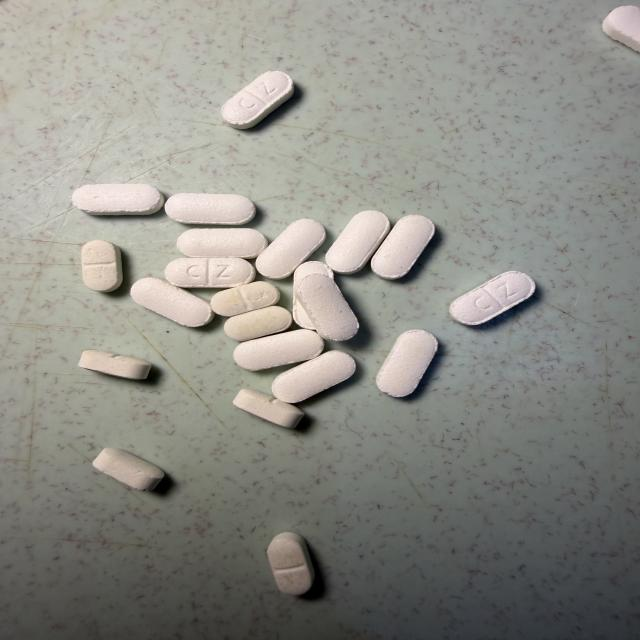pill: (450, 271, 535, 325), (272, 351, 355, 403), (295, 274, 359, 341), (256, 219, 325, 279), (222, 71, 293, 129), (376, 330, 437, 397), (131, 278, 214, 327), (371, 215, 434, 279), (326, 211, 390, 273), (234, 330, 324, 370), (93, 448, 164, 490), (267, 533, 314, 595), (72, 184, 164, 215), (165, 194, 255, 225), (234, 389, 304, 428), (293, 261, 333, 329), (165, 258, 255, 287), (177, 229, 267, 258), (211, 281, 280, 316), (224, 306, 292, 341), (79, 350, 151, 379), (82, 240, 122, 292), (603, 6, 639, 51)
